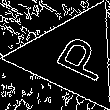P_NW: (37, 28, 107, 84)
